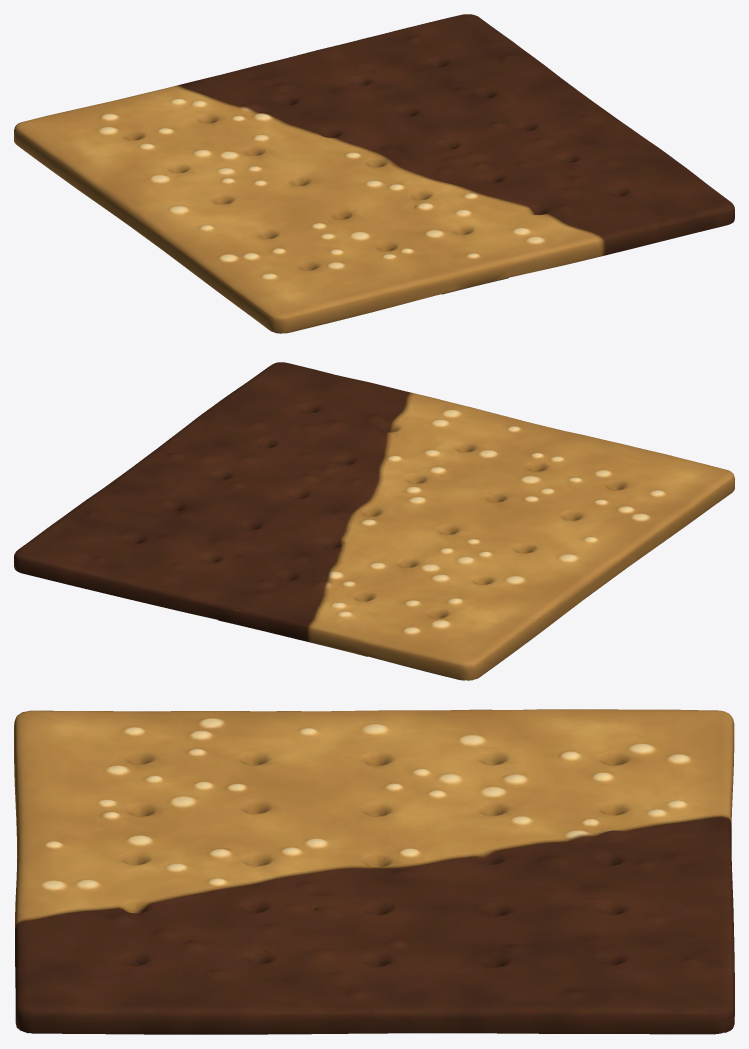
The model's file is cracker--choco-cocoa.glb.
3 views of the same model, one above another, from view 1: azimuth 30°, elevation 25°; view 2: azimuth 150°, elevation 25°; view 3: azimuth 270°, elevation 25° (orthographic). The views are drawn at different scales.
Parts seen in each view (by area): view 1: cracker_choco-cocoa; view 2: cracker_choco-cocoa; view 3: cracker_choco-cocoa.
Boxes of the visible parts, x1,y1,x2,y2 form: cracker_choco-cocoa: (14, 14, 734, 333); cracker_choco-cocoa: (14, 362, 734, 680); cracker_choco-cocoa: (14, 709, 734, 1034).
Bounding box in the file's own units: 1.01 × 0.0438 × 1.
1 material, 1 textured.
